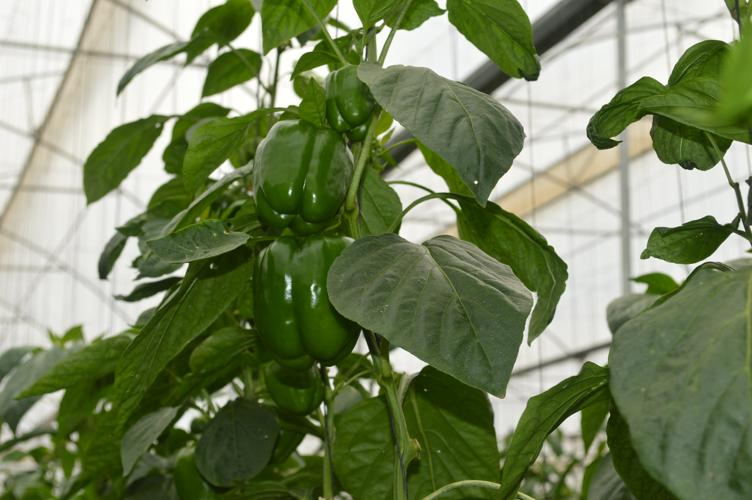BellPepper: (250, 236, 365, 363), (246, 121, 353, 229), (320, 66, 378, 141), (256, 363, 326, 417)
